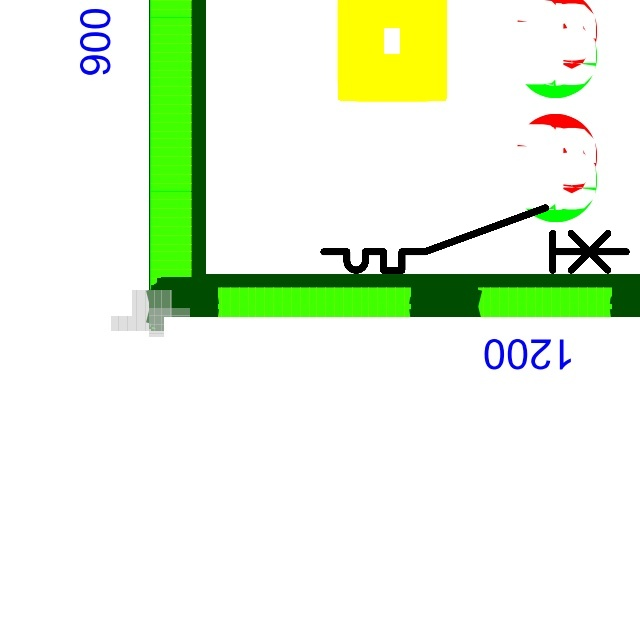interruptor_termomagnetico: (316, 200, 634, 278)
